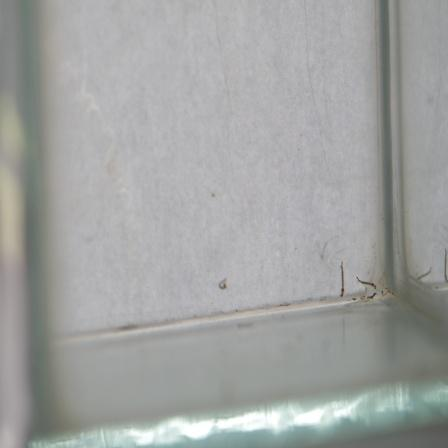Jentik-Nyamuk: (334, 256, 348, 303), (353, 271, 380, 293)
